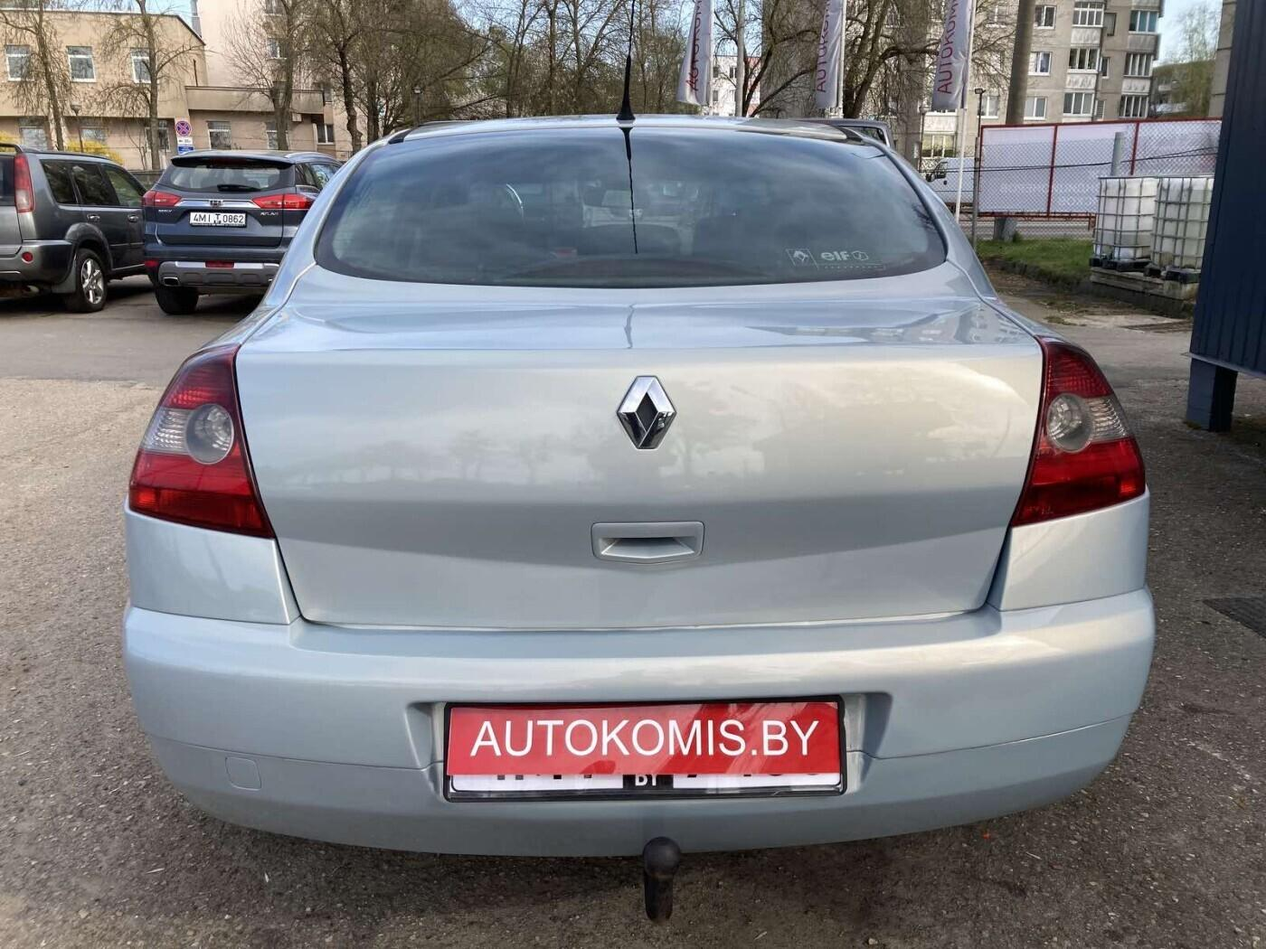Megane_2002-2006: (110, 111, 1156, 866)
